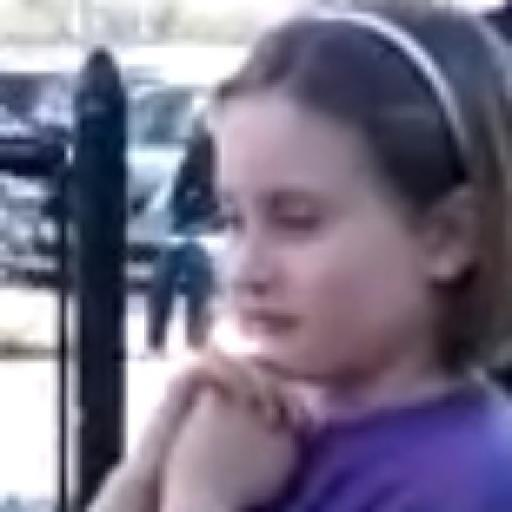Autism: (123, 14, 512, 418)
